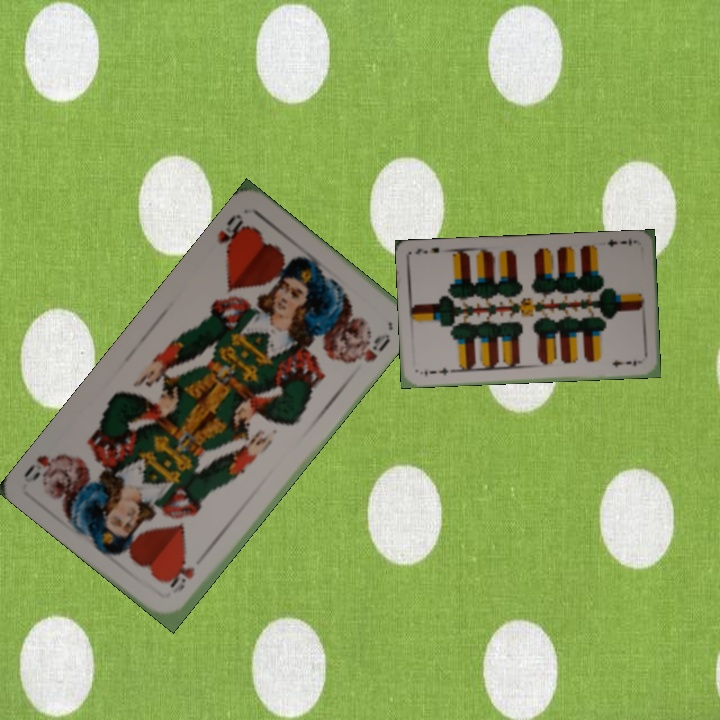E7: (420, 364, 456, 379), (603, 234, 634, 249)
HO: (213, 209, 251, 255), (166, 563, 198, 597)
